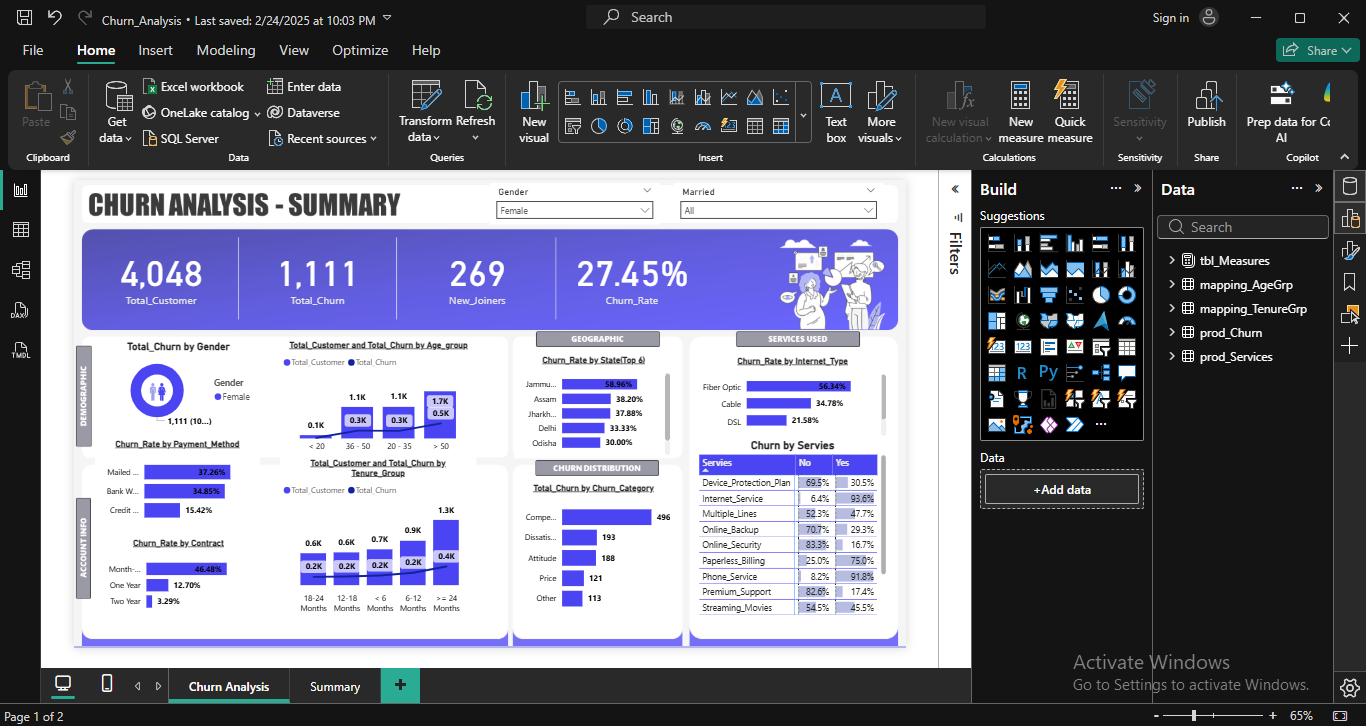

What the dashboard file says about the page in this screenshot:
{"tool":"powerbi","page":{"name":"Churn Analysis","canvas":[1280,720],"ordinal":0},"visuals":[{"type":"card","fields":{"Values":["tbl_Measures.Total_Customer"]},"box":[32.6,83.6,204.1,127.6],"z":0},{"type":"card","fields":{"Values":["tbl_Measures.Total_Churn"]},"box":[270.7,83.6,208.3,127.6],"z":1000},{"type":"card","fields":{"Values":["tbl_Measures.New_Joiners"]},"box":[518.7,83.6,204.1,127.6],"z":2000},{"type":"card","fields":{"Values":["tbl_Measures.Churn_Rate"]},"box":[759.7,83.6,197,127.6],"z":3000},{"type":"donutChart","fields":{"Category":["prod_Churn.Gender"],"Y":["tbl_Measures.Total_Churn"]},"box":[35.4,246.6,250.9,137.5],"z":4000},{"type":"lineStackedColumnComboChart","fields":{"Category":["mapping_AgeGrp.Age_group"],"Y2":["tbl_Measures.Total_Churn"],"Y":["tbl_Measures.Total_Customer"]},"box":[317.5,246.6,303.3,181.4],"z":5000},{"type":"clusteredBarChart","fields":{"Category":["prod_Churn.Payment_Method"],"Y":["tbl_Measures.Churn_Rate"]},"box":[32.6,398.3,253.7,138.9],"z":6000},{"type":"clusteredBarChart","fields":{"Category":["prod_Churn.Contract"],"Y":["tbl_Measures.Churn_Rate"]},"box":[35.4,551.3,250.9,123.3],"z":7000},{"type":"lineStackedColumnComboChart","fields":{"Y2":["tbl_Measures.Total_Churn"],"Y":["tbl_Measures.Total_Customer"],"Category":["mapping_TenureGrp.Tenure_Group"]},"box":[317.5,428,301.9,246.6],"z":8000},{"type":"clusteredBarChart","title":"Churn_Rate by State(Top 6)","fields":{"Y":["tbl_Measures.Churn_Rate"],"Category":["prod_Churn.State"]},"box":[677.5,269.3,245.2,158.7],"z":9000},{"type":"clusteredBarChart","fields":{"Category":["prod_Churn.Churn_Category"],"Y":["tbl_Measures.Total_Churn"]},"box":[677.5,466.3,245.2,208.3],"z":10000},{"type":"clusteredBarChart","fields":{"Y":["tbl_Measures.Churn_Rate"],"Category":["prod_Churn.Internet_Type"]},"box":[956.7,270.7,297.6,127.6],"z":11000},{"type":"pivotTable","title":"Churn by Servies","fields":{"Rows":["prod_Services.Servies"],"Columns":["prod_Services.Status"],"Values":["Sum(prod_Services.Churn_Status)"]},"box":[956.7,398.3,297.6,276.4],"z":12000},{"type":"image","box":[99.2,303.3,60.9,45.4],"z":12500},{"type":"slicer","fields":{"Values":["prod_Churn.Gender"]},"box":[640.6,4.3,260.8,63.8],"z":13000},{"type":"slicer","fields":{"Values":["prod_Churn.Married"]},"box":[922.7,4.3,321.7,58.1],"z":14000}]}

Visuals, with their boxes on the page's 1280x720 design canvas (x1, y1, x2, y2). These are canvas units, not pixel positions in the 1366x726 screenshot, which may show the page scaled, cropped or inside an application window:
card - tbl_Measures.Total_Customer: bbox(33, 84, 237, 211)
card - tbl_Measures.Total_Churn: bbox(271, 84, 479, 211)
card - tbl_Measures.New_Joiners: bbox(519, 84, 723, 211)
card - tbl_Measures.Churn_Rate: bbox(760, 84, 957, 211)
donutChart - prod_Churn.Gender x tbl_Measures.Total_Churn: bbox(35, 247, 286, 384)
lineStackedColumnComboChart - mapping_AgeGrp.Age_group x tbl_Measures.Total_Churn: bbox(318, 247, 621, 428)
clusteredBarChart - prod_Churn.Payment_Method x tbl_Measures.Churn_Rate: bbox(33, 398, 286, 537)
clusteredBarChart - prod_Churn.Contract x tbl_Measures.Churn_Rate: bbox(35, 551, 286, 675)
lineStackedColumnComboChart - tbl_Measures.Total_Churn x tbl_Measures.Total_Customer: bbox(318, 428, 619, 675)
"Churn_Rate by State(Top 6)" clusteredBarChart: bbox(678, 269, 923, 428)
clusteredBarChart - prod_Churn.Churn_Category x tbl_Measures.Total_Churn: bbox(678, 466, 923, 675)
clusteredBarChart - tbl_Measures.Churn_Rate x prod_Churn.Internet_Type: bbox(957, 271, 1254, 398)
"Churn by Servies" pivotTable: bbox(957, 398, 1254, 675)
image: bbox(99, 303, 160, 349)
slicer - prod_Churn.Gender: bbox(641, 4, 901, 68)
slicer - prod_Churn.Married: bbox(923, 4, 1244, 62)
